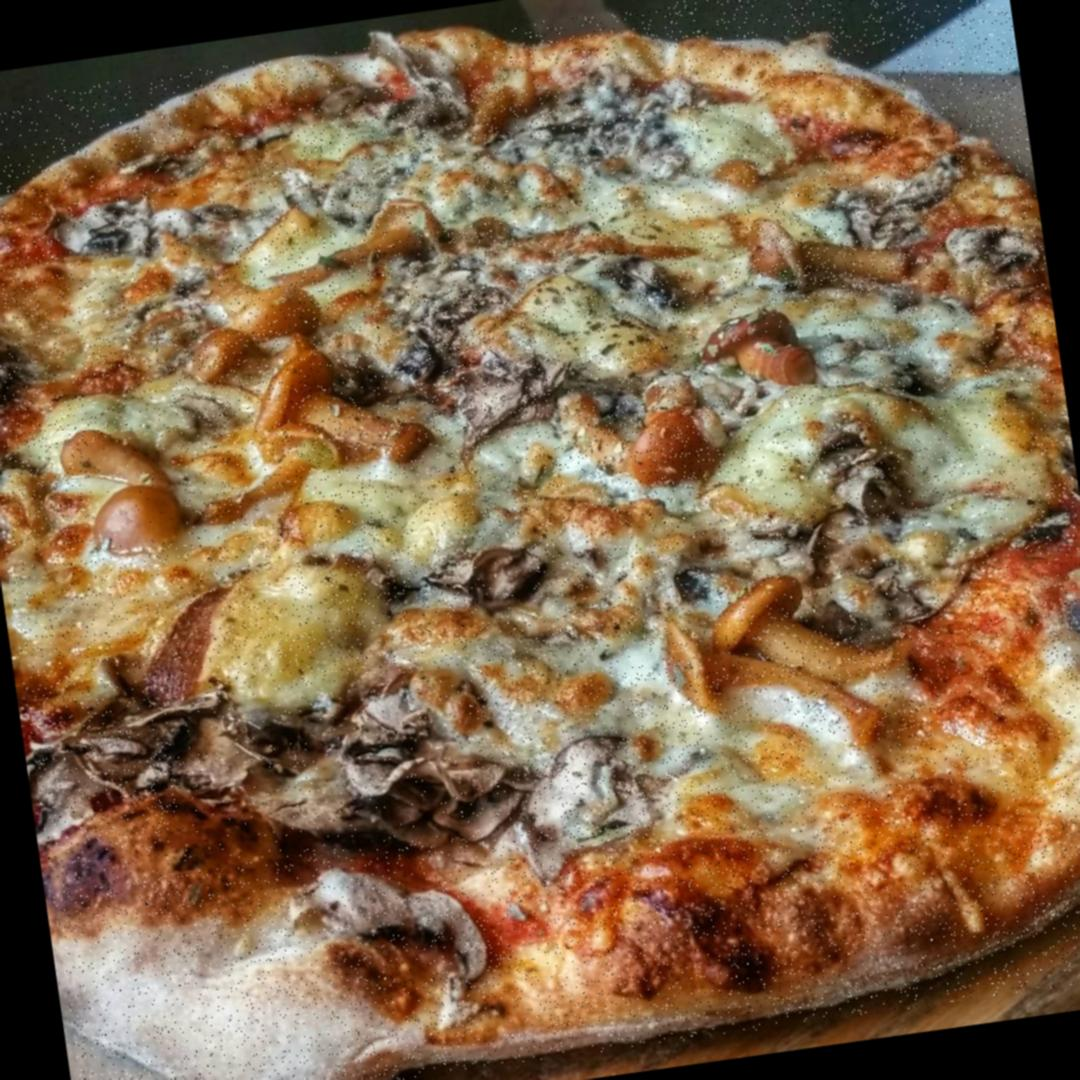Mushroom: (125, 664, 481, 876), (662, 578, 917, 760), (192, 286, 417, 474), (287, 847, 503, 997), (799, 477, 962, 632), (406, 276, 559, 441), (239, 198, 461, 302), (740, 192, 912, 310), (505, 725, 653, 856), (560, 372, 714, 496), (48, 726, 184, 854), (70, 189, 236, 293), (86, 434, 190, 554), (698, 302, 826, 399), (371, 72, 510, 158), (942, 216, 1050, 298), (469, 532, 542, 620)
Pizza: (0, 0, 1080, 1080)
